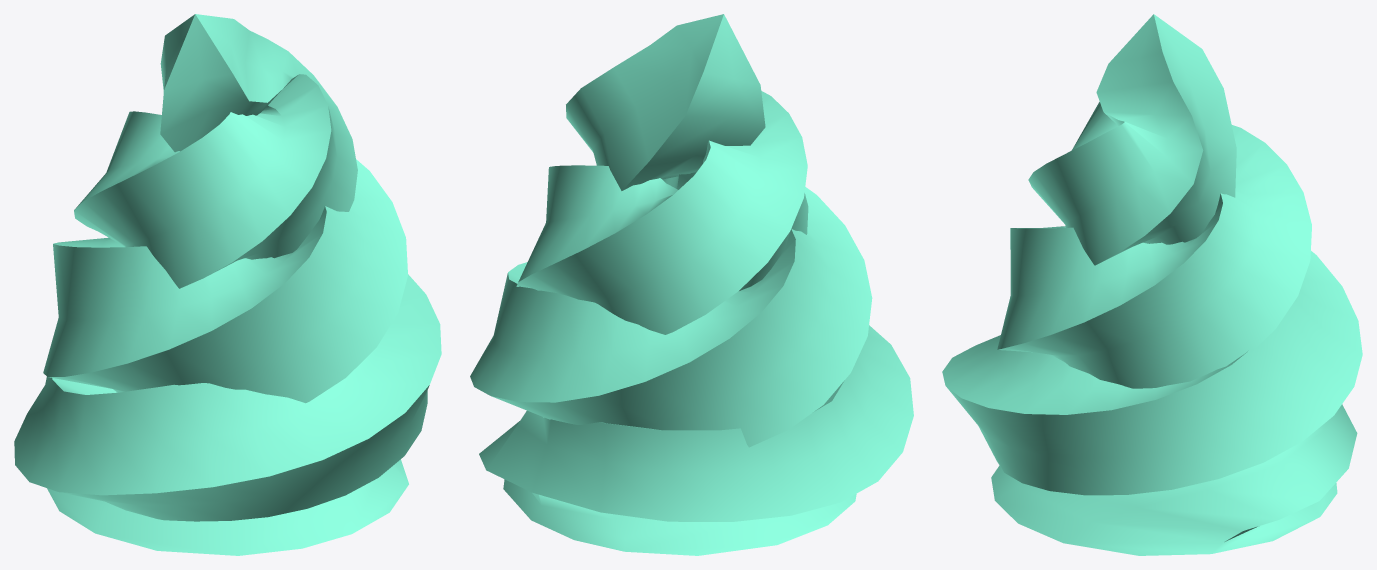
The model's file is Ice Cream Hat L.fbx.
The picture shows the model from 3 angles, left to right: view 1: azimuth 30°, elevation 25°; view 2: azimuth 150°, elevation 25°; view 3: azimuth 270°, elevation 25°; orthographic projection. The views are drawn at different scales.
Parts seen in each view (by area): view 1: Ice Cream Hat L; view 2: Ice Cream Hat L; view 3: Ice Cream Hat L.
Part boxes in pixels (<box>): Ice Cream Hat L: <box>14,14,441,555</box>; Ice Cream Hat L: <box>470,14,913,555</box>; Ice Cream Hat L: <box>942,14,1362,555</box>.
Size of the model in its own units: 0.494 by 0.5946 by 0.4981.
